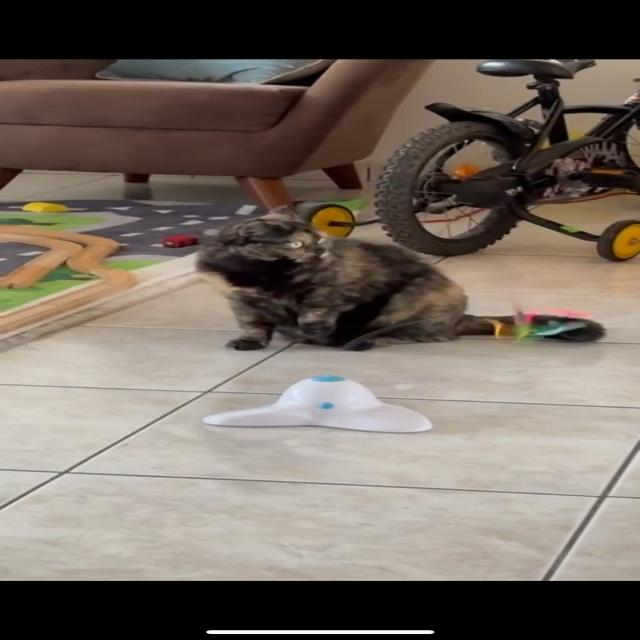authorized: (193, 211, 606, 352)
